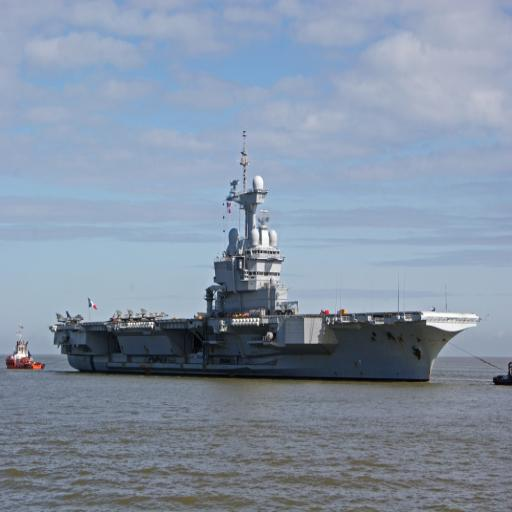Portanaves: (49, 118, 483, 391)
